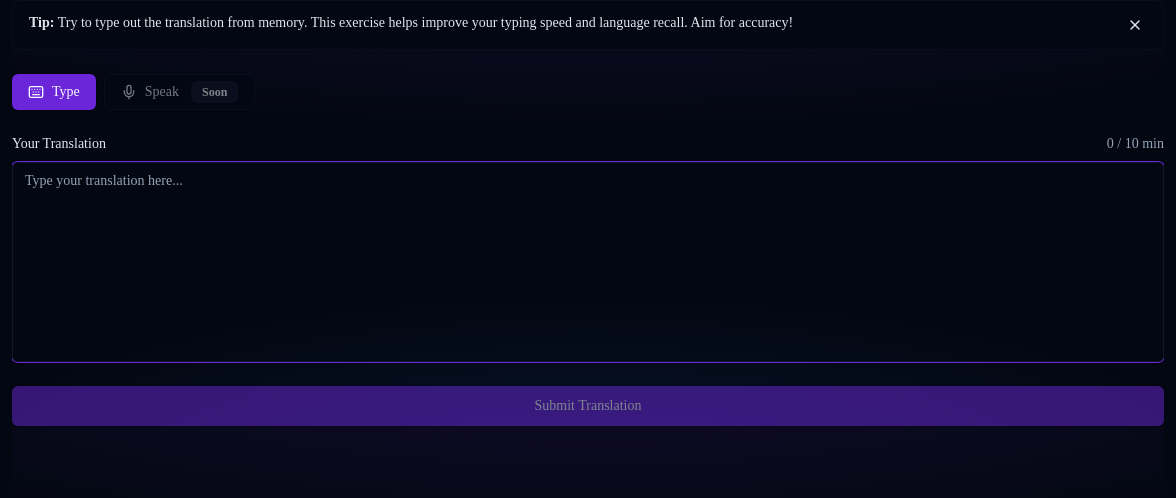
Test: ExerciseForm › enables submit button when text meets minimum length
Type "This is a longer text that meets minimum" into the text box with placeholder "Type your translation here..." at [588, 262], box [12, 162, 1164, 362]
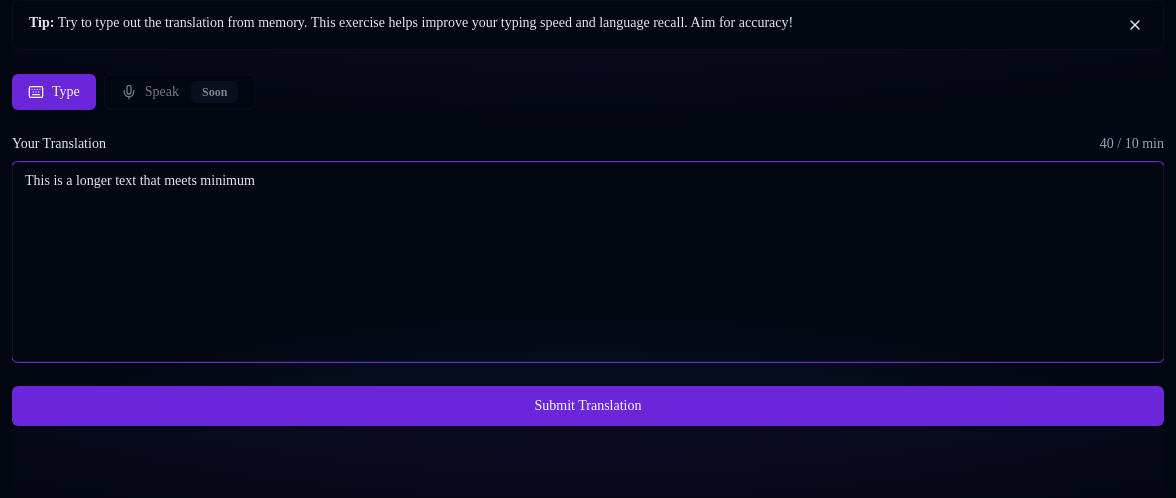
Now the button "Submit Translation" is enabled, box [12, 386, 1164, 426]
